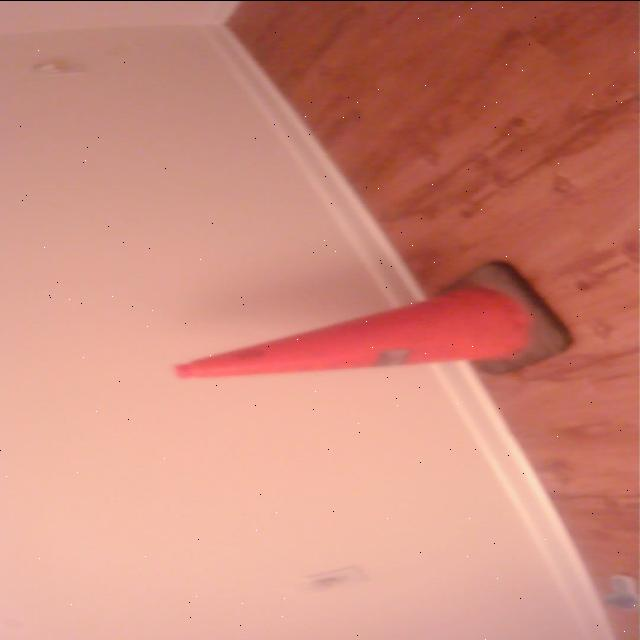traffic cone: (165, 258, 577, 382)
